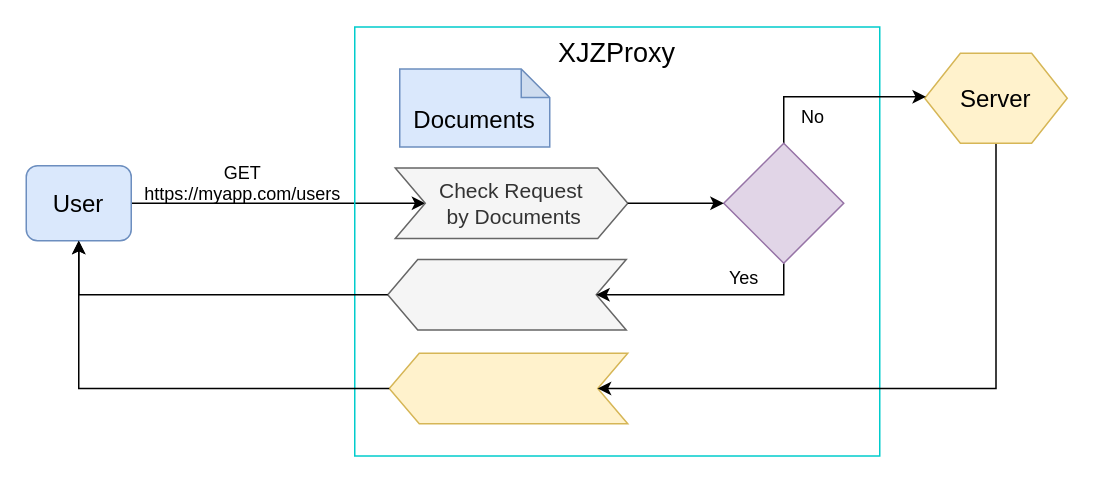
Some shapes in this 1094 by 482 pixel diagram are drawn without their labels. The box of each missing label's shape, as (x1, y1, x2, y2) in pixels:
Check Response by Documents: (388, 352, 628, 424)
Generate Data by Documents: (386, 258, 626, 330)
Mock?: (722, 142, 844, 263)
